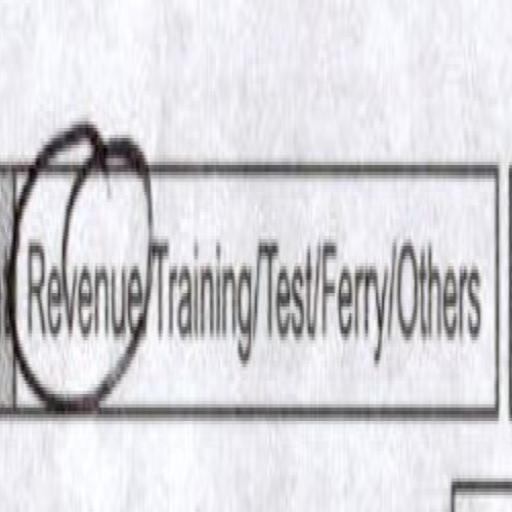check: (14, 124, 146, 408)
